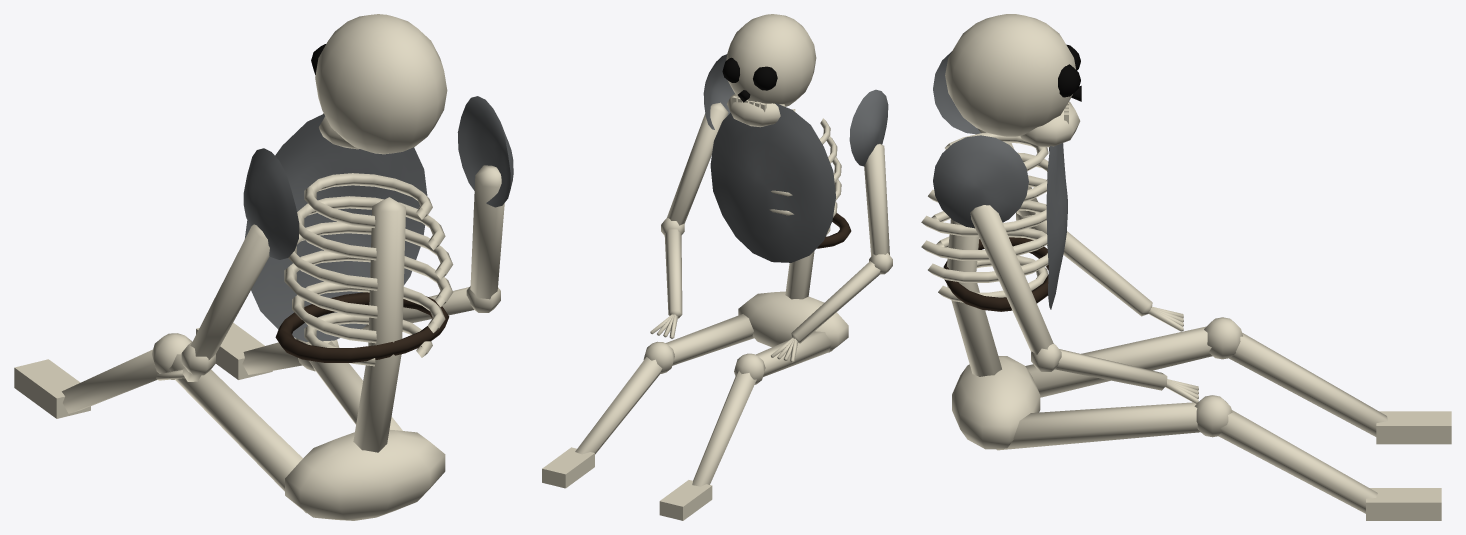
File: skeleton_sit.glb
The picture shows the model from 3 angles, left to right: view 1: azimuth 30°, elevation 25°; view 2: azimuth 150°, elevation 25°; view 3: azimuth 270°, elevation 25°; orthographic projection. The views are drawn at different scales.
Parts seen in each view (by area): view 1: Bones; view 2: Bones; view 3: Bones.
Boxes of the visible parts, left/top/right/bottom form: Bones: left=14, top=14, right=513, bottom=520; Bones: left=542, top=14, right=892, bottom=520; Bones: left=921, top=14, right=1451, bottom=520.
Size of the model in its own units: 0.6527 by 1.02 by 1.05.
